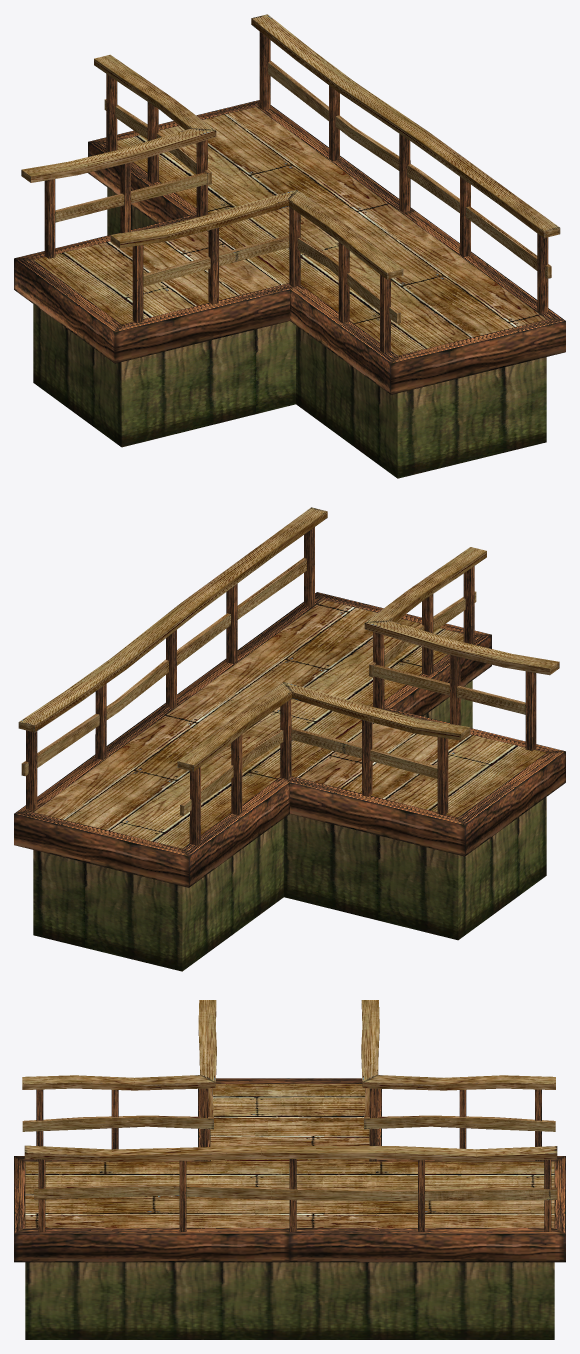
The model's file is INST_WH2_T_BLOCK.fbx.
The picture shows the model from 3 angles, top to bottom: view 1: azimuth 30°, elevation 25°; view 2: azimuth 150°, elevation 25°; view 3: azimuth 270°, elevation 25°; orthographic projection. The views are drawn at different scales.
Visible parts, largest first — view 1: INST_WH2_T_BLOCK; view 2: INST_WH2_T_BLOCK; view 3: INST_WH2_T_BLOCK.
Part boxes in pixels (x1,y1,x2,y2): INST_WH2_T_BLOCK: (14,14,565,478); INST_WH2_T_BLOCK: (14,507,565,971); INST_WH2_T_BLOCK: (14,1000,565,1339).
Size of the model in its own units: 40292 by 23135 by 60000.
Materials: 4 (4 with a texture image).
